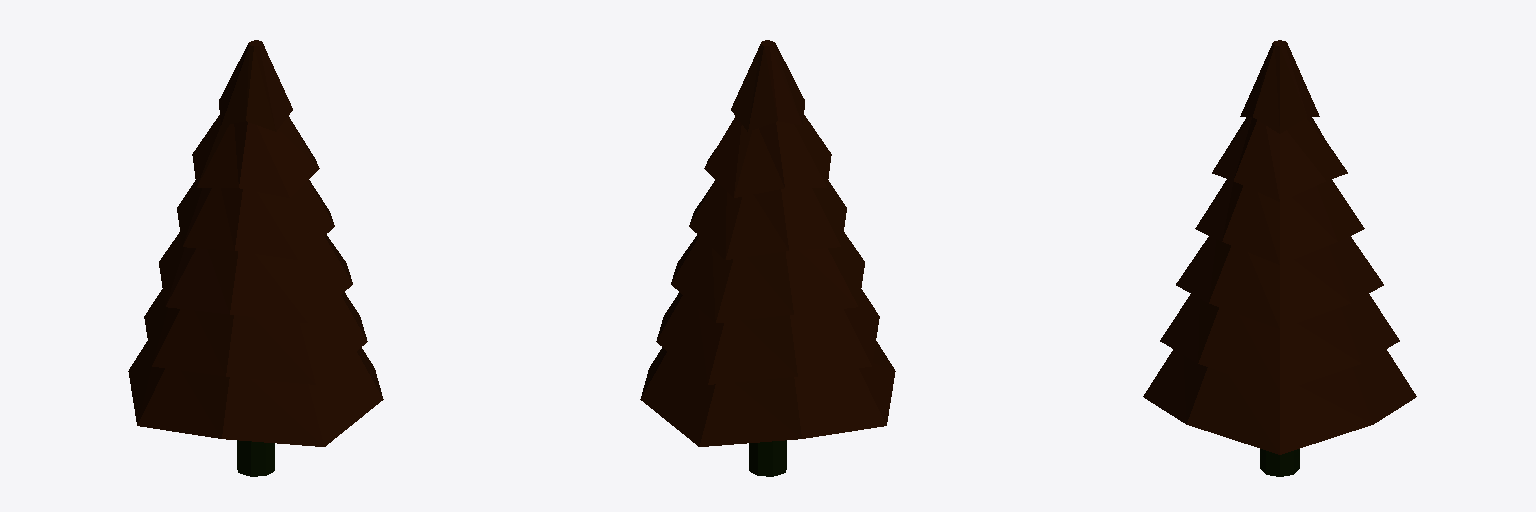
The model's file is s_tree.obj.
3 renders of one model, left to right at view 1: azimuth 30°, elevation 25°; view 2: azimuth 150°, elevation 25°; view 3: azimuth 270°, elevation 25°, orthographic.
Parts seen in each view (by area): view 1: Cylinder; view 2: Cylinder; view 3: Cylinder.
Part boxes in pixels (x1,y1,x2,y2): Cylinder: (128,40,383,476); Cylinder: (640,40,895,476); Cylinder: (1143,40,1416,476).
Size of the model in its own units: 3.71 by 6.34 by 3.71.